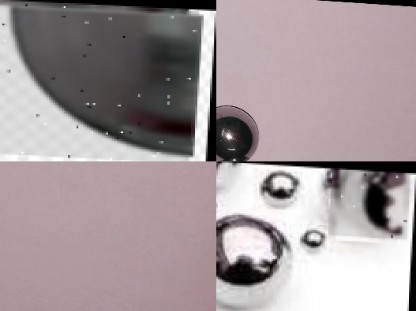ironball: (0, 1, 199, 161), (216, 213, 303, 311), (329, 167, 410, 238), (206, 95, 266, 159), (253, 165, 310, 211), (290, 214, 333, 258), (216, 161, 258, 190), (216, 194, 227, 225)
